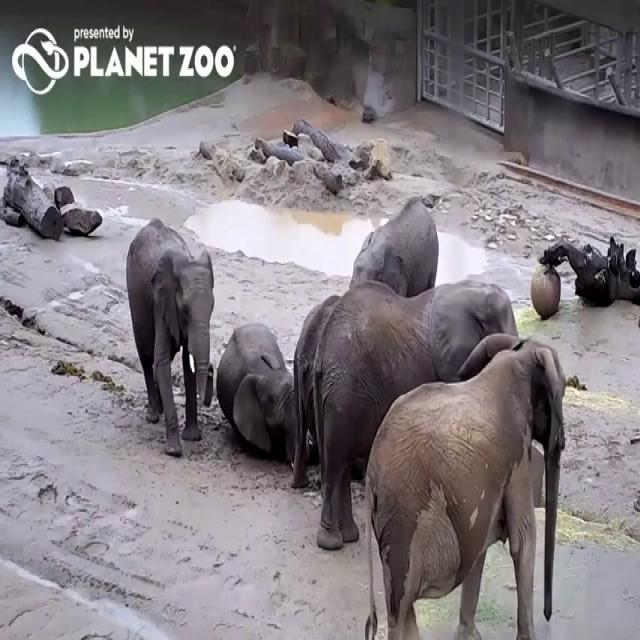Elephant: (363, 333, 566, 639), (310, 278, 520, 550), (125, 216, 214, 456), (348, 195, 438, 297)
